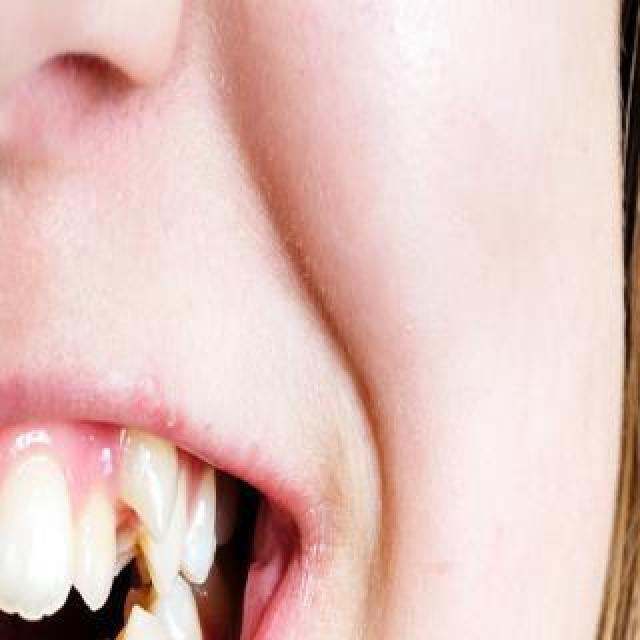maligned: (94, 412, 194, 520), (69, 487, 123, 621)
